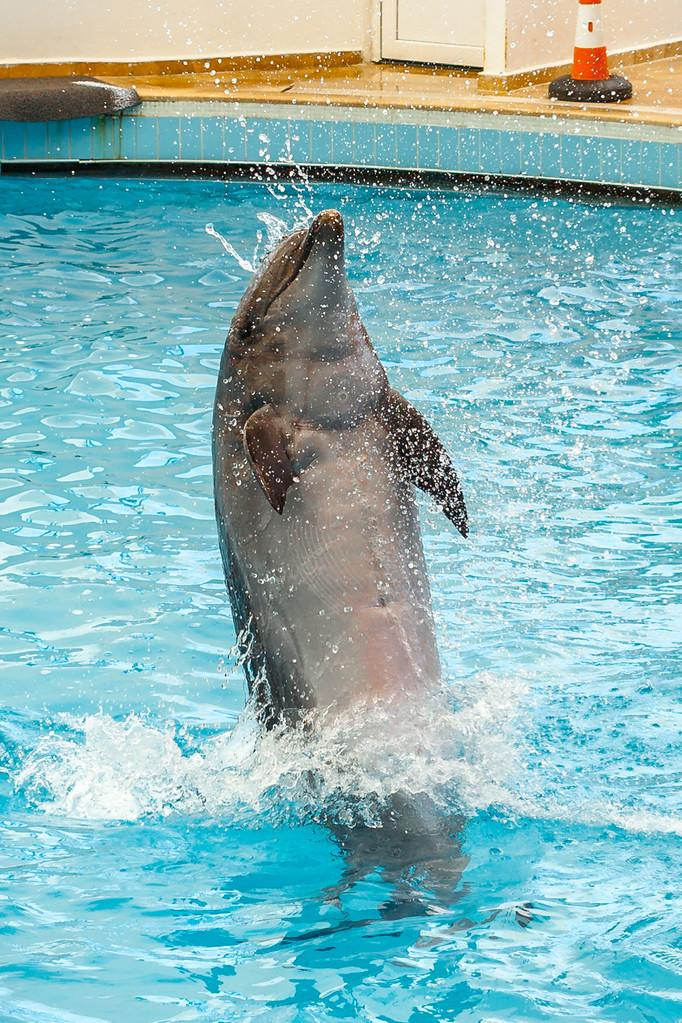fish: (200, 209, 505, 914)
